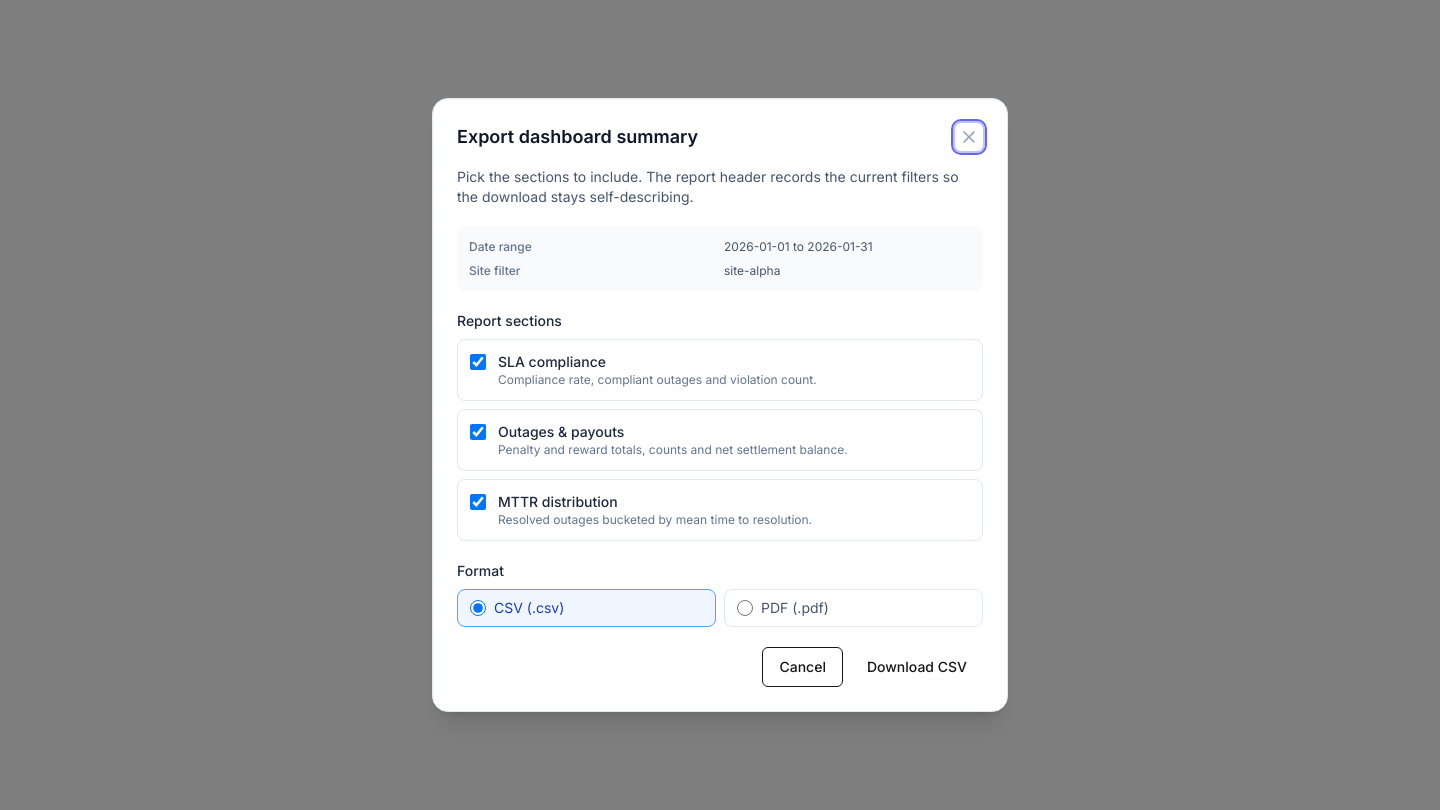
Test: ExportModal › switches the download button label with the format toggle
expect the button "Download CSV" is shown: met, box [851,647,983,687]
Click the radio button labelled "PDF (.pdf)" at (745, 608), box [737,600,753,616]
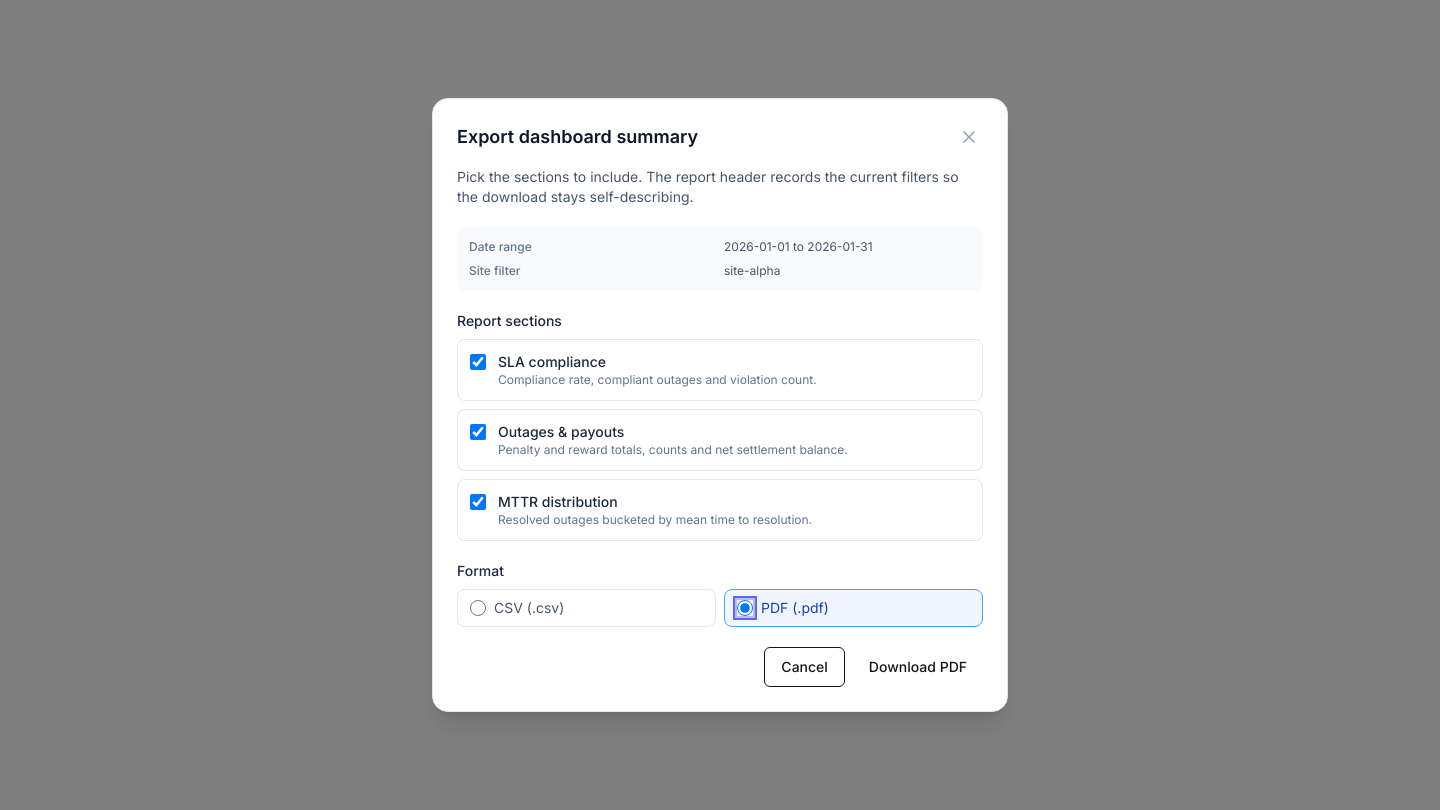
expect the button "Download PDF" is shown: met, box [853,647,983,687]
